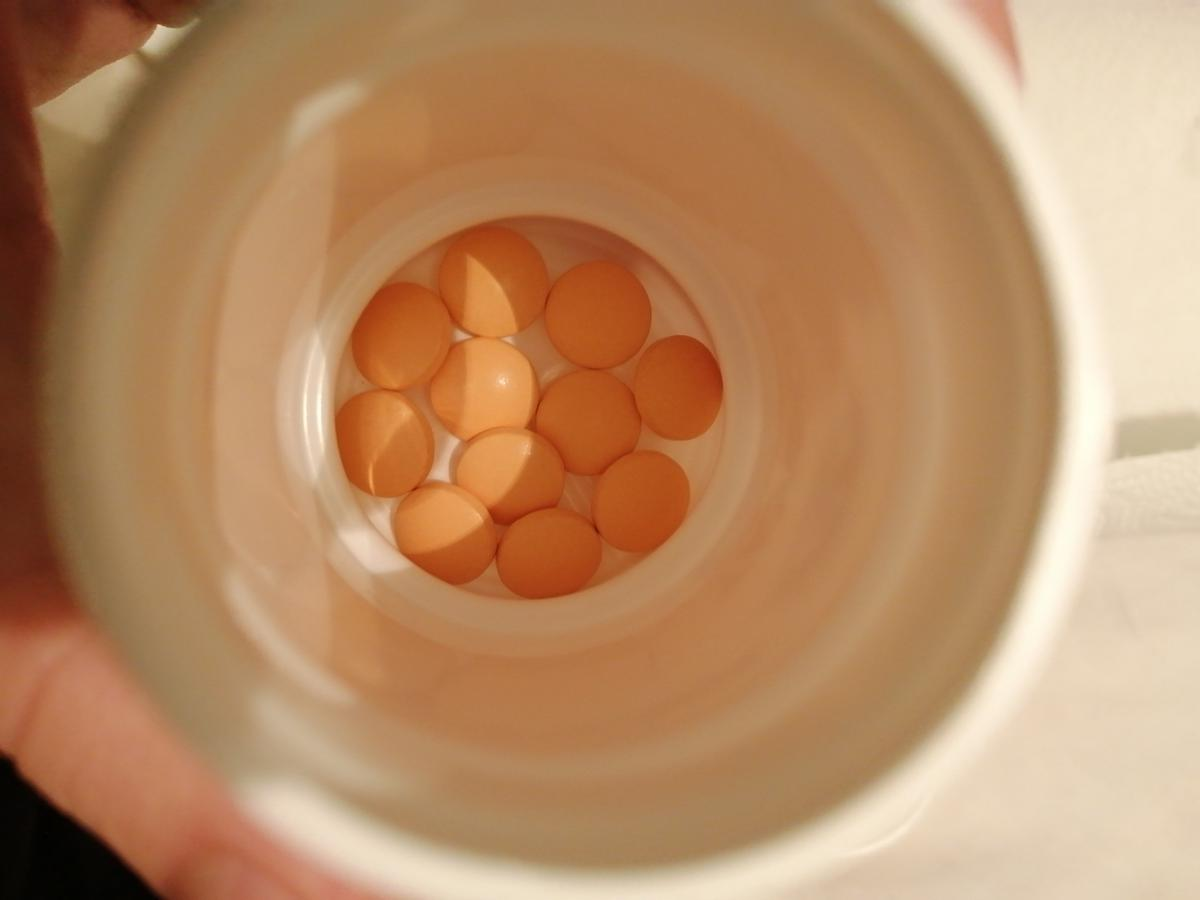tablet: (435, 214, 550, 338), (531, 366, 645, 480), (540, 256, 652, 370), (388, 483, 493, 592), (327, 392, 437, 496), (452, 428, 565, 528), (429, 339, 539, 441), (352, 283, 454, 391), (596, 448, 693, 560), (632, 336, 731, 441), (497, 508, 601, 602)
